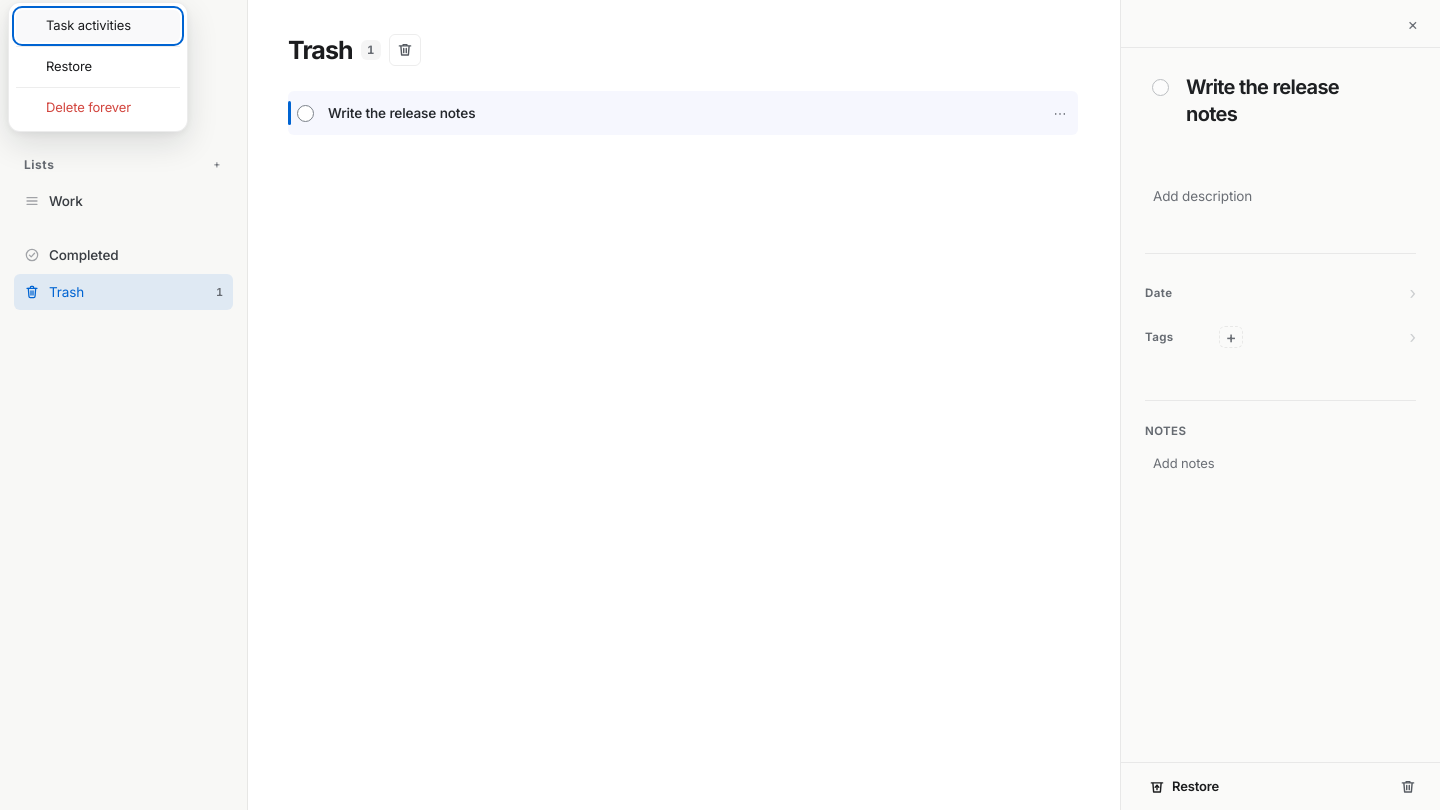
Test case: the Detail's More menu (§15.2, §15.3) › asks before deleting a trashed Task forever, and deletes nothing until it is answered
This screenshot has width=1440, height=810.
Later steps or results of the test are not shown.
Click the menu item "Delete forever" at (98, 108), box [16,92,180,124]
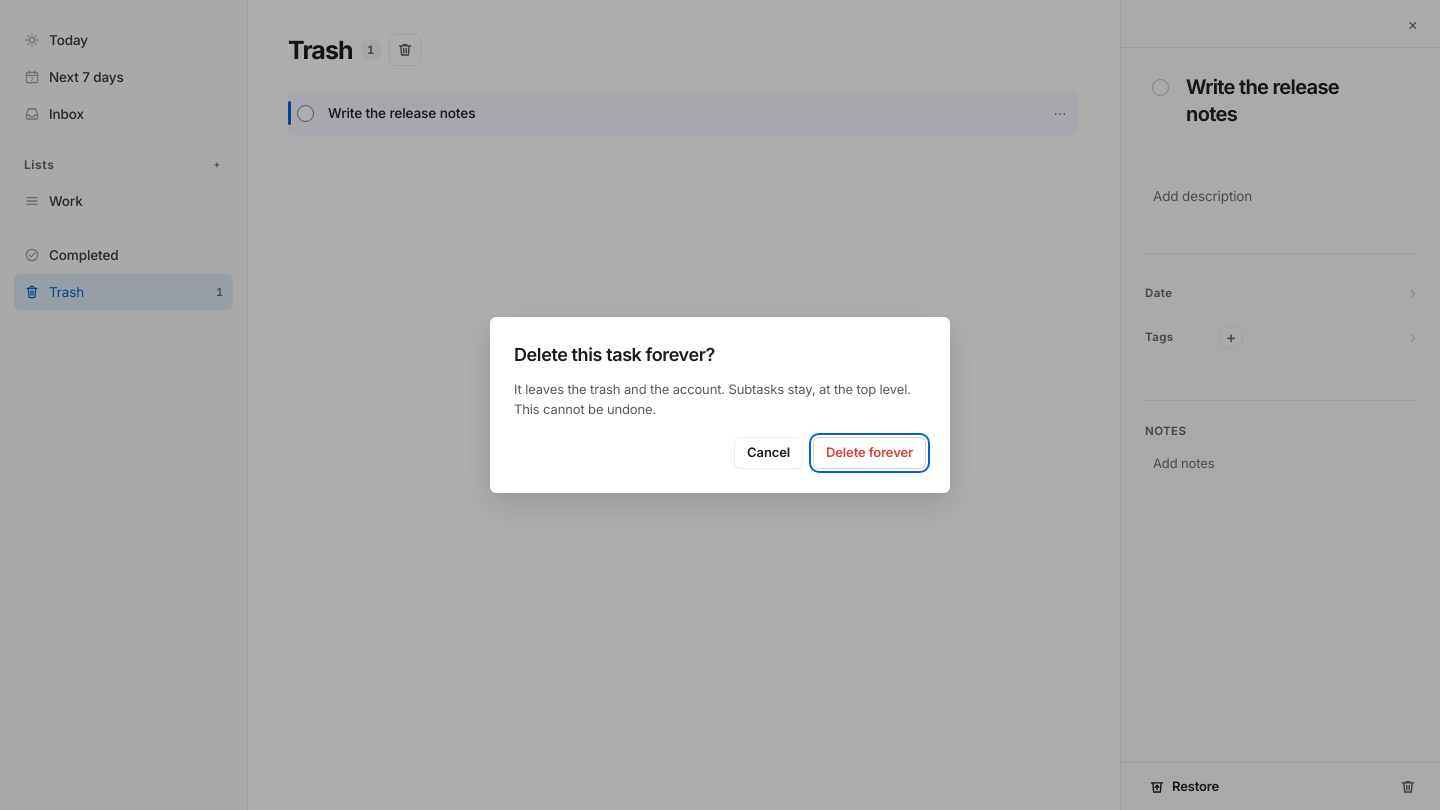
expect the heading "Delete this task forever?" is shown: met, box [514,344,715,365]
